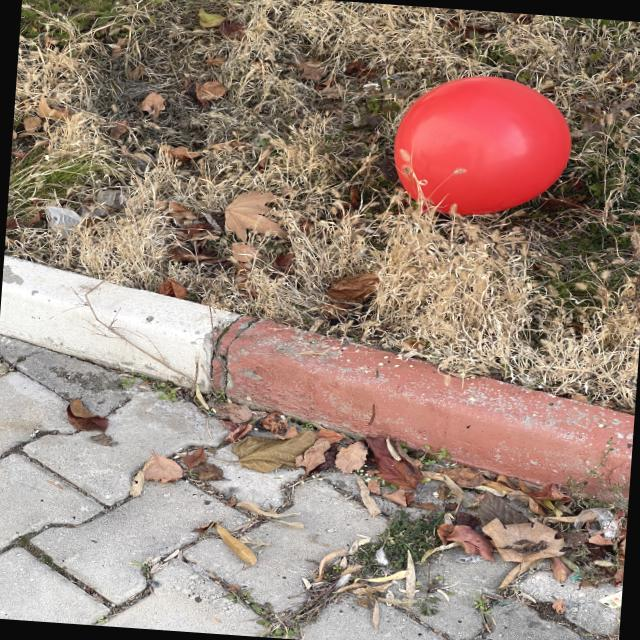balloon: (394, 76, 570, 215)
